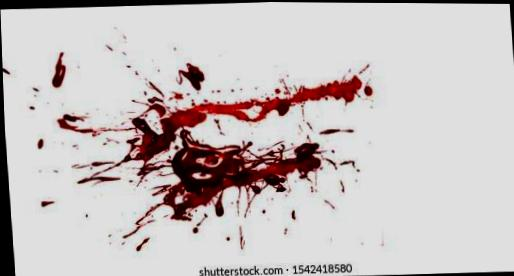Fire: (105, 74, 362, 230), (56, 113, 133, 135), (179, 63, 203, 89), (51, 51, 64, 86), (191, 213, 206, 232), (148, 81, 163, 96), (76, 177, 118, 182), (70, 162, 112, 167), (134, 237, 147, 251), (120, 227, 138, 237), (321, 158, 336, 168), (238, 225, 243, 248), (339, 159, 355, 166), (169, 91, 182, 99), (319, 129, 353, 132), (25, 99, 34, 110), (39, 201, 52, 206), (2, 67, 9, 73), (35, 138, 39, 148), (290, 209, 294, 218), (224, 236, 228, 240)
